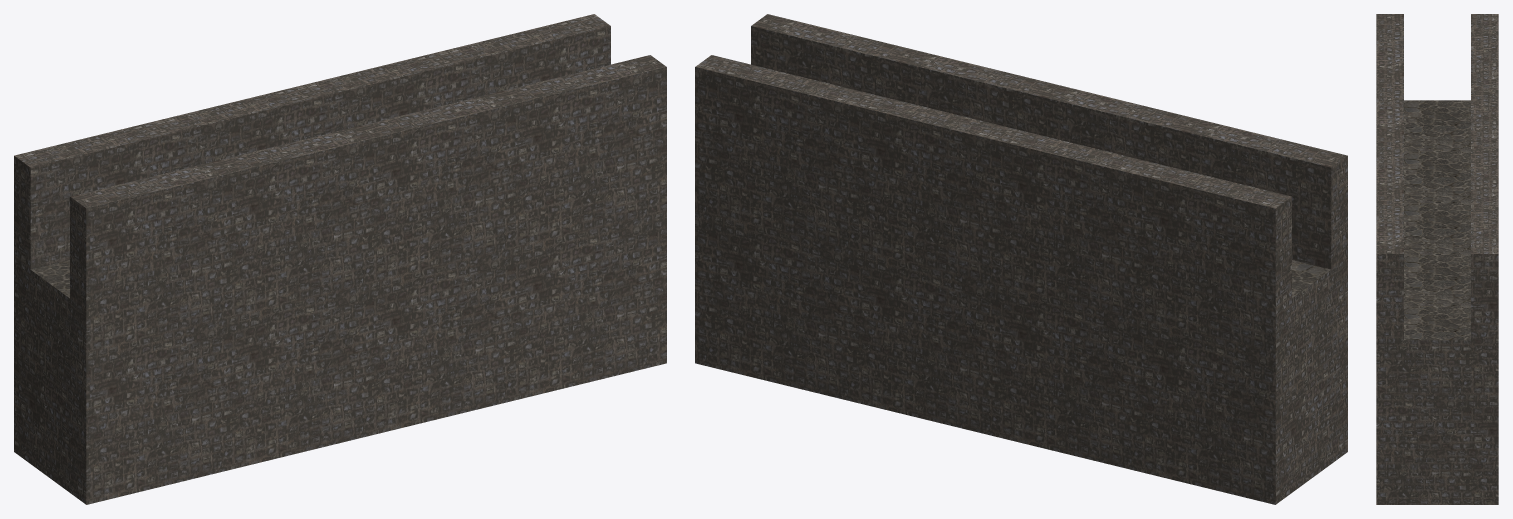
File: CastleWallShoot.fbx
3 renders of one model, left to right at view 1: azimuth 30°, elevation 25°; view 2: azimuth 150°, elevation 25°; view 3: azimuth 270°, elevation 25°, orthographic. The views are drawn at different scales.
Parts seen in each view (by area): view 1: CastleWallShoot; view 2: CastleWallShoot; view 3: CastleWallShoot.
Boxes of the visible parts, x1,y1,x2,y2 form: CastleWallShoot: (14,14,666,504); CastleWallShoot: (695,14,1347,504); CastleWallShoot: (1376,14,1498,504).
Size of the model in its own units: 12.5 by 6.1 by 2.7.
